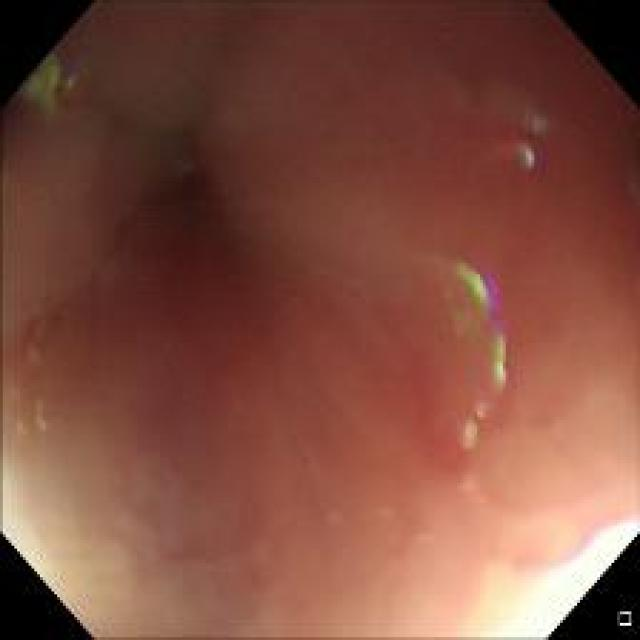color misalignment: (436, 242, 512, 454), (16, 45, 69, 119), (505, 128, 549, 185), (24, 314, 46, 371), (8, 411, 30, 442)
saturation: (471, 509, 629, 630), (4, 496, 84, 600)
